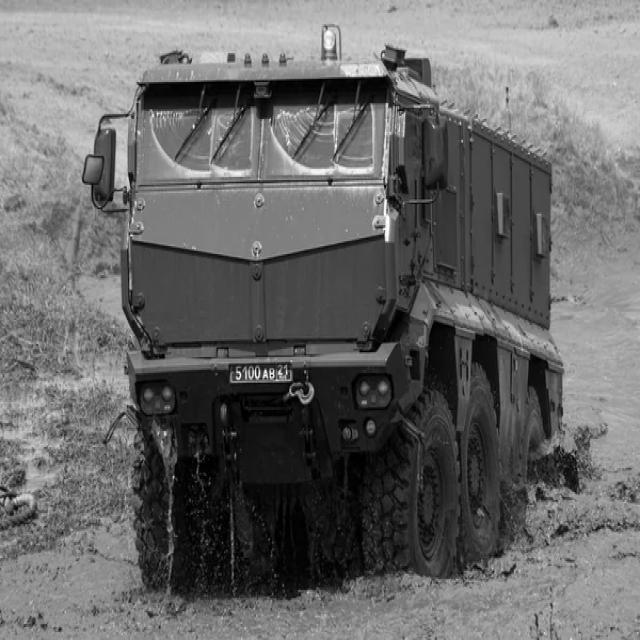Truck: (82, 24, 564, 591)
